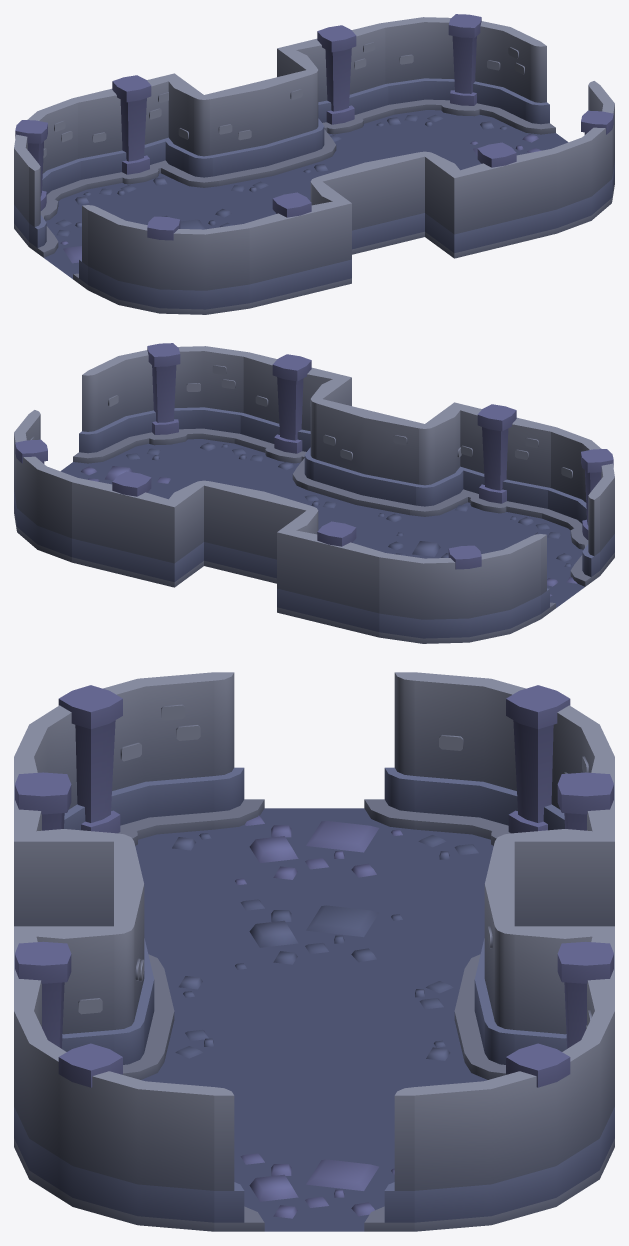
Rendered from room-wide-variation.fbx.
The picture shows the model from 3 angles, top to bottom: view 1: azimuth 30°, elevation 25°; view 2: azimuth 150°, elevation 25°; view 3: azimuth 270°, elevation 25°; orthographic projection. The views are drawn at different scales.
Visible parts, largest first — view 1: room-wide-variation; view 2: room-wide-variation; view 3: room-wide-variation.
Boxes of the visible parts, x1,y1,x2,y2 form: room-wide-variation: (14,14,614,314); room-wide-variation: (14,343,614,643); room-wide-variation: (14,672,614,1231).
Bounding box in the file's own units: 2000 × 333 × 1200.
1 material, 1 textured.
